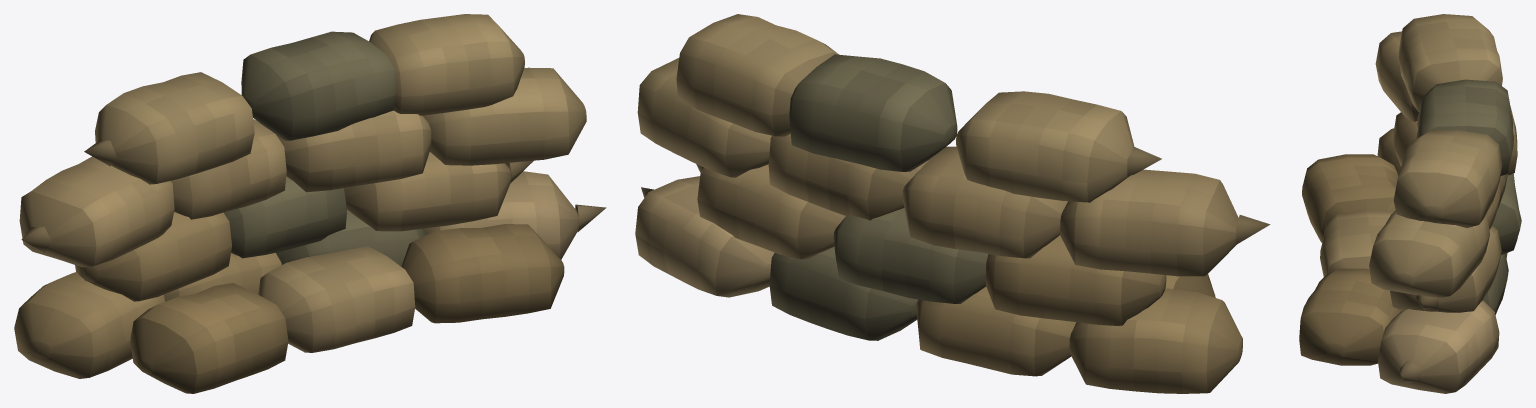
The model's file is defensa-sacos.glb.
3 views of the same model, side by side, from view 1: azimuth 30°, elevation 25°; view 2: azimuth 150°, elevation 25°; view 3: azimuth 270°, elevation 25° (orthographic). The views are drawn at different scales.
Visible parts, largest first — view 1: defensa-sacos; view 2: defensa-sacos; view 3: defensa-sacos.
Boxes of the visible parts, <box> form: defensa-sacos: <box>14,14,606,393</box>; defensa-sacos: <box>635,14,1270,393</box>; defensa-sacos: <box>1299,14,1521,393</box>.
Bounding box in the file's own units: 2.24 × 0.8563 × 0.8423.
